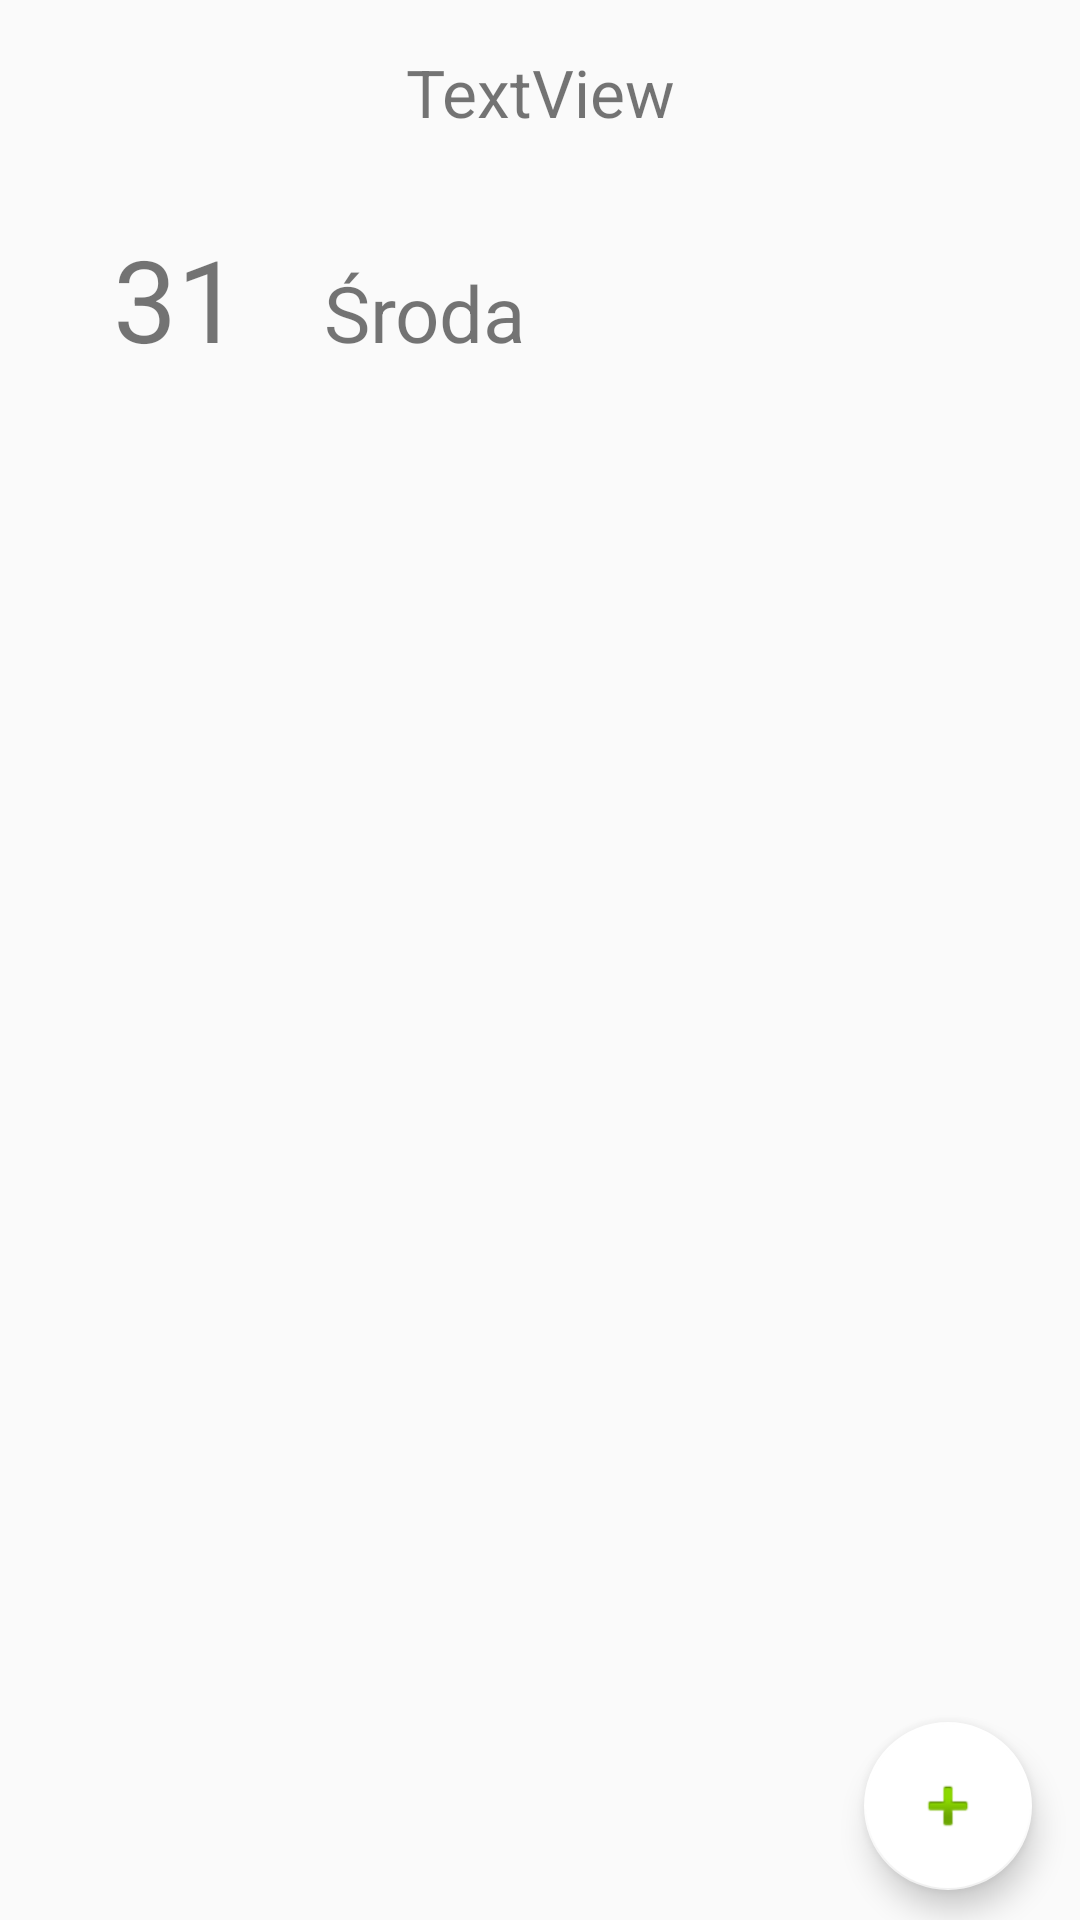

Icons on this 1080 x 1920 Android screen, each with its box as (x1, y1, x2, y2):
add: (870, 1786, 1032, 1890)
